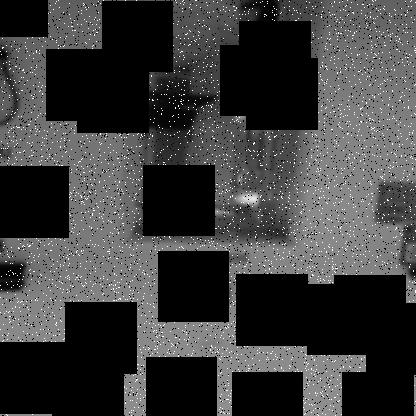Porte: (118, 0, 324, 251)
